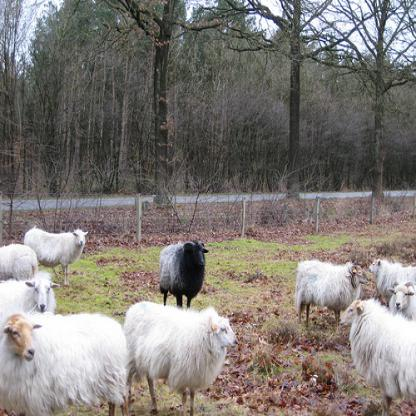sheep: (124, 299, 240, 415), (0, 311, 128, 415), (340, 289, 415, 415), (296, 258, 365, 322), (22, 228, 89, 286), (157, 238, 208, 310), (0, 275, 58, 328), (369, 258, 415, 306), (0, 243, 39, 284)
